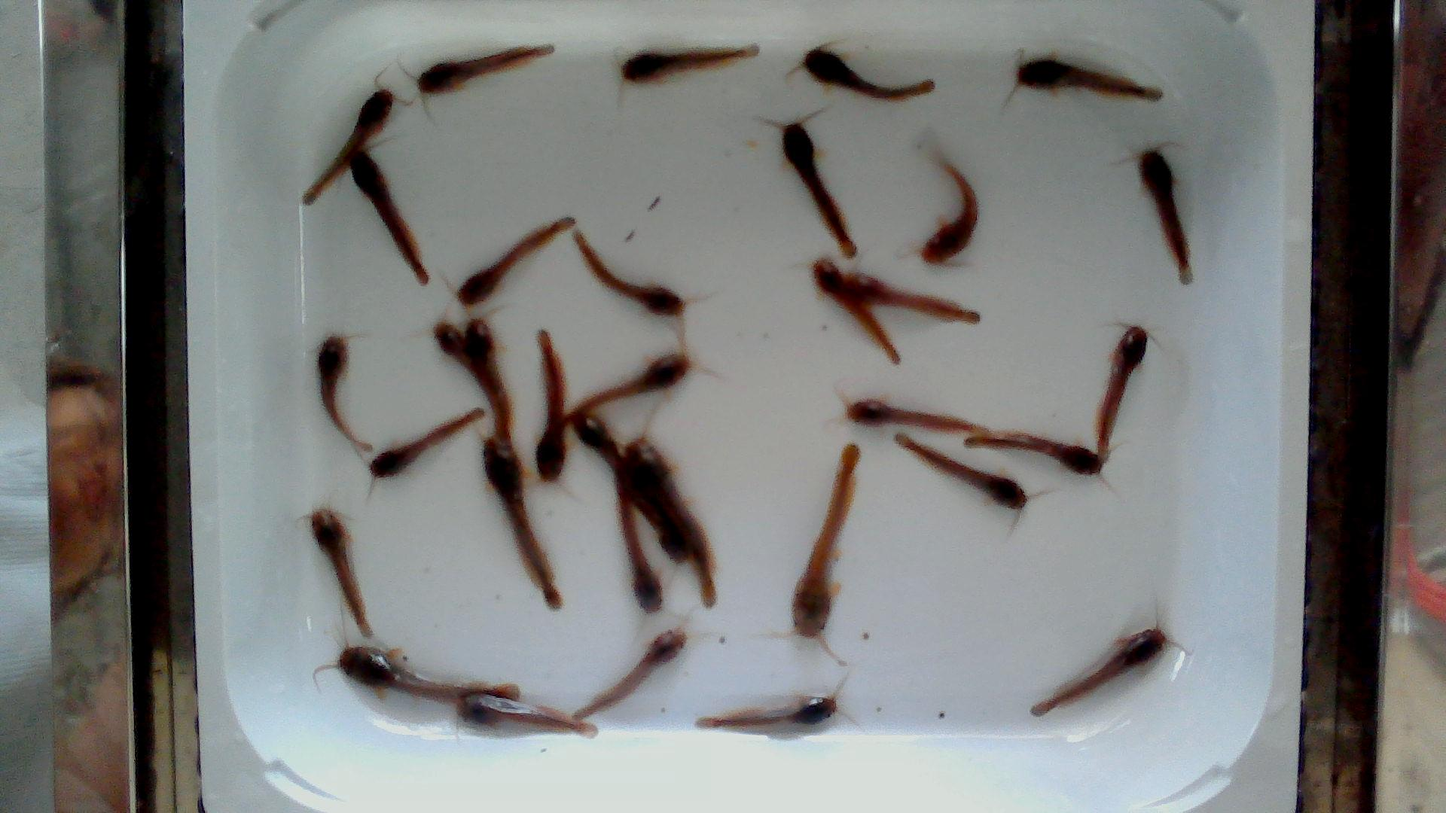lele: (627, 436, 715, 611), (792, 444, 859, 636), (483, 437, 557, 597), (1031, 627, 1167, 714), (336, 645, 522, 702), (572, 628, 686, 719), (351, 153, 429, 284), (895, 434, 1027, 510), (782, 122, 856, 257), (459, 218, 573, 305), (306, 90, 394, 201), (812, 258, 902, 364), (607, 456, 691, 566), (575, 231, 684, 315), (567, 354, 691, 421), (370, 410, 483, 477), (313, 510, 371, 635), (1139, 150, 1192, 284), (802, 47, 934, 100), (846, 274, 982, 325), (920, 148, 978, 263), (435, 320, 499, 424), (1016, 56, 1161, 100), (1098, 327, 1147, 454), (418, 46, 552, 92), (573, 412, 647, 495), (463, 319, 511, 443), (317, 338, 370, 450), (462, 693, 597, 735), (618, 490, 663, 613), (964, 434, 1102, 474), (535, 330, 567, 480), (621, 47, 758, 82), (846, 399, 987, 432), (697, 695, 837, 728)
